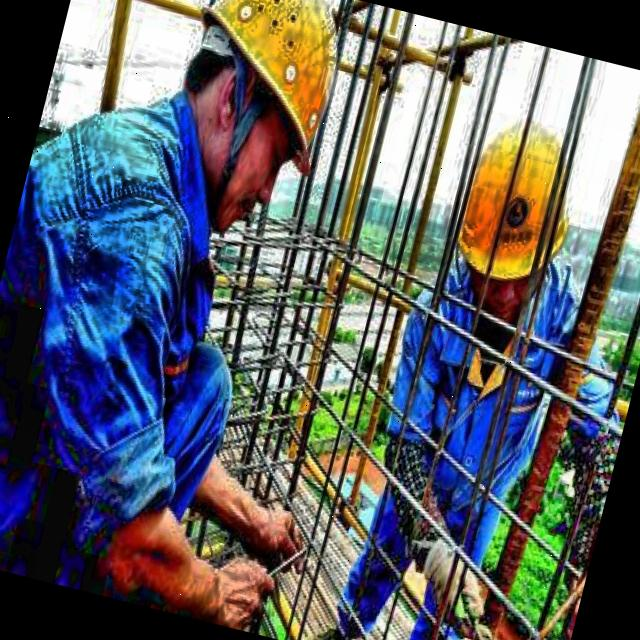helmet: (141, 0, 372, 254), (425, 87, 592, 351)
